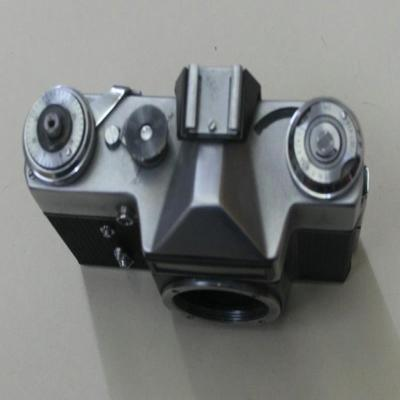technique: (22, 64, 369, 328)
